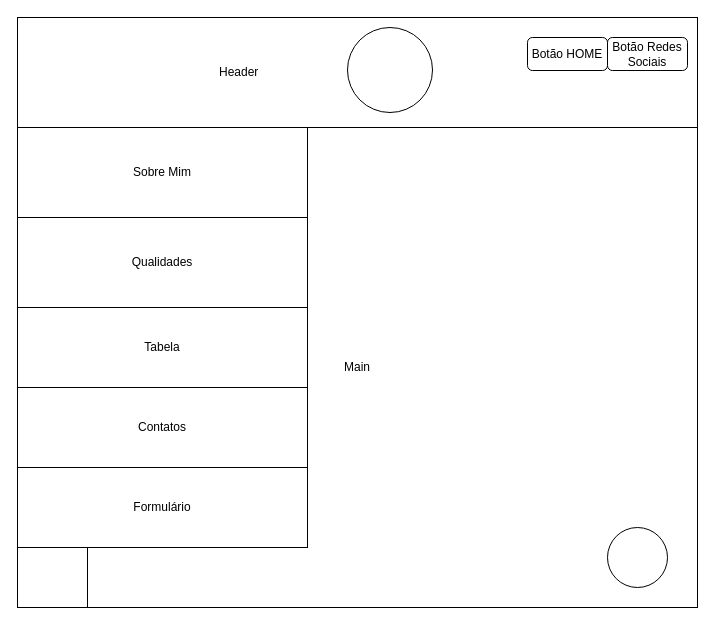
The diagram is 715 pixels wide and 625 high, and some of its shapes have lost their labels. The centre of each missing label's shape, as x and y in pixels:
"Instagram" belongs at point 52,577.
"whatsapp" belongs at point 637,557.
